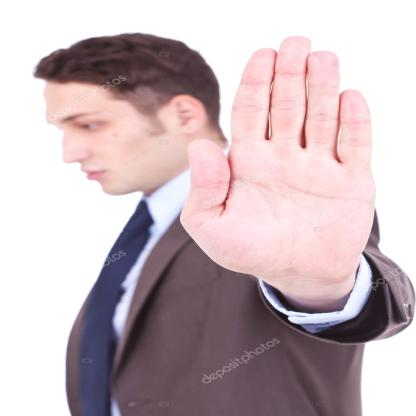Stop: (180, 35, 364, 290)
